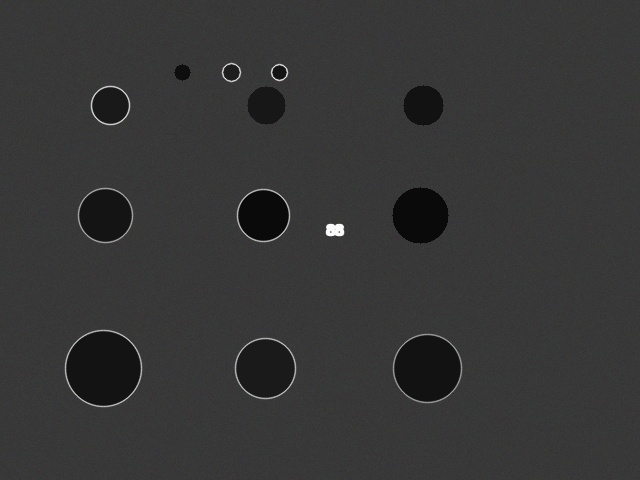hole: (65, 330, 141, 406), (393, 334, 461, 402), (235, 338, 295, 398), (392, 187, 448, 243), (78, 188, 132, 242), (237, 189, 289, 241), (403, 85, 443, 125), (91, 86, 129, 124), (247, 86, 285, 124), (222, 63, 240, 81), (174, 64, 190, 80), (271, 64, 287, 80)
